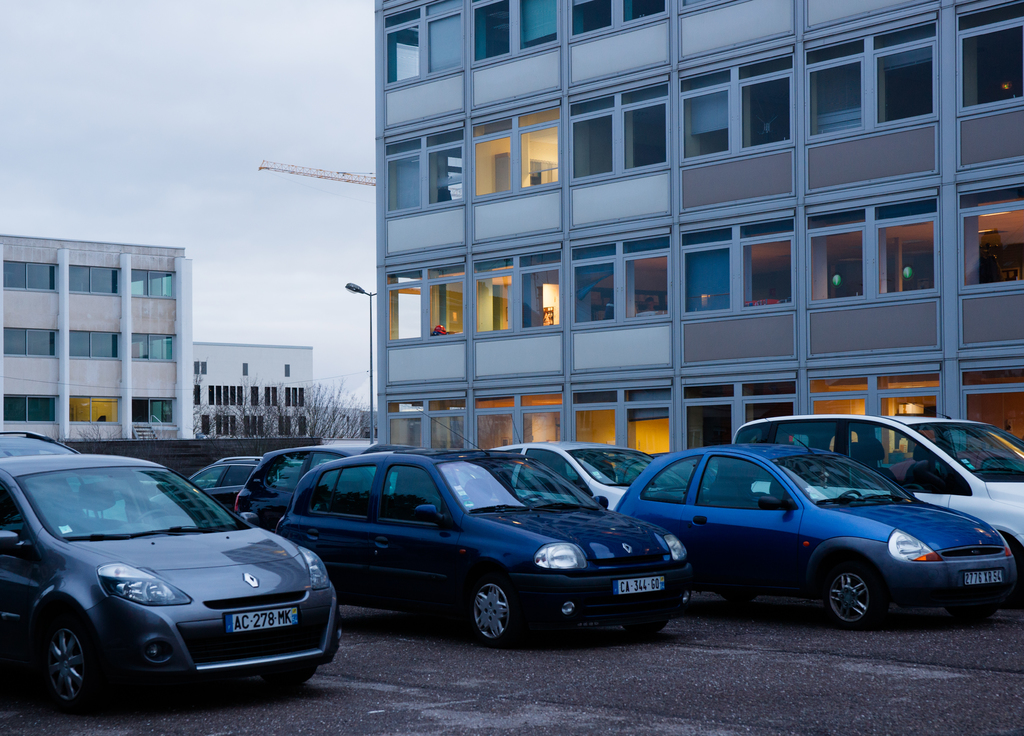cars: (0, 414, 1023, 718)
